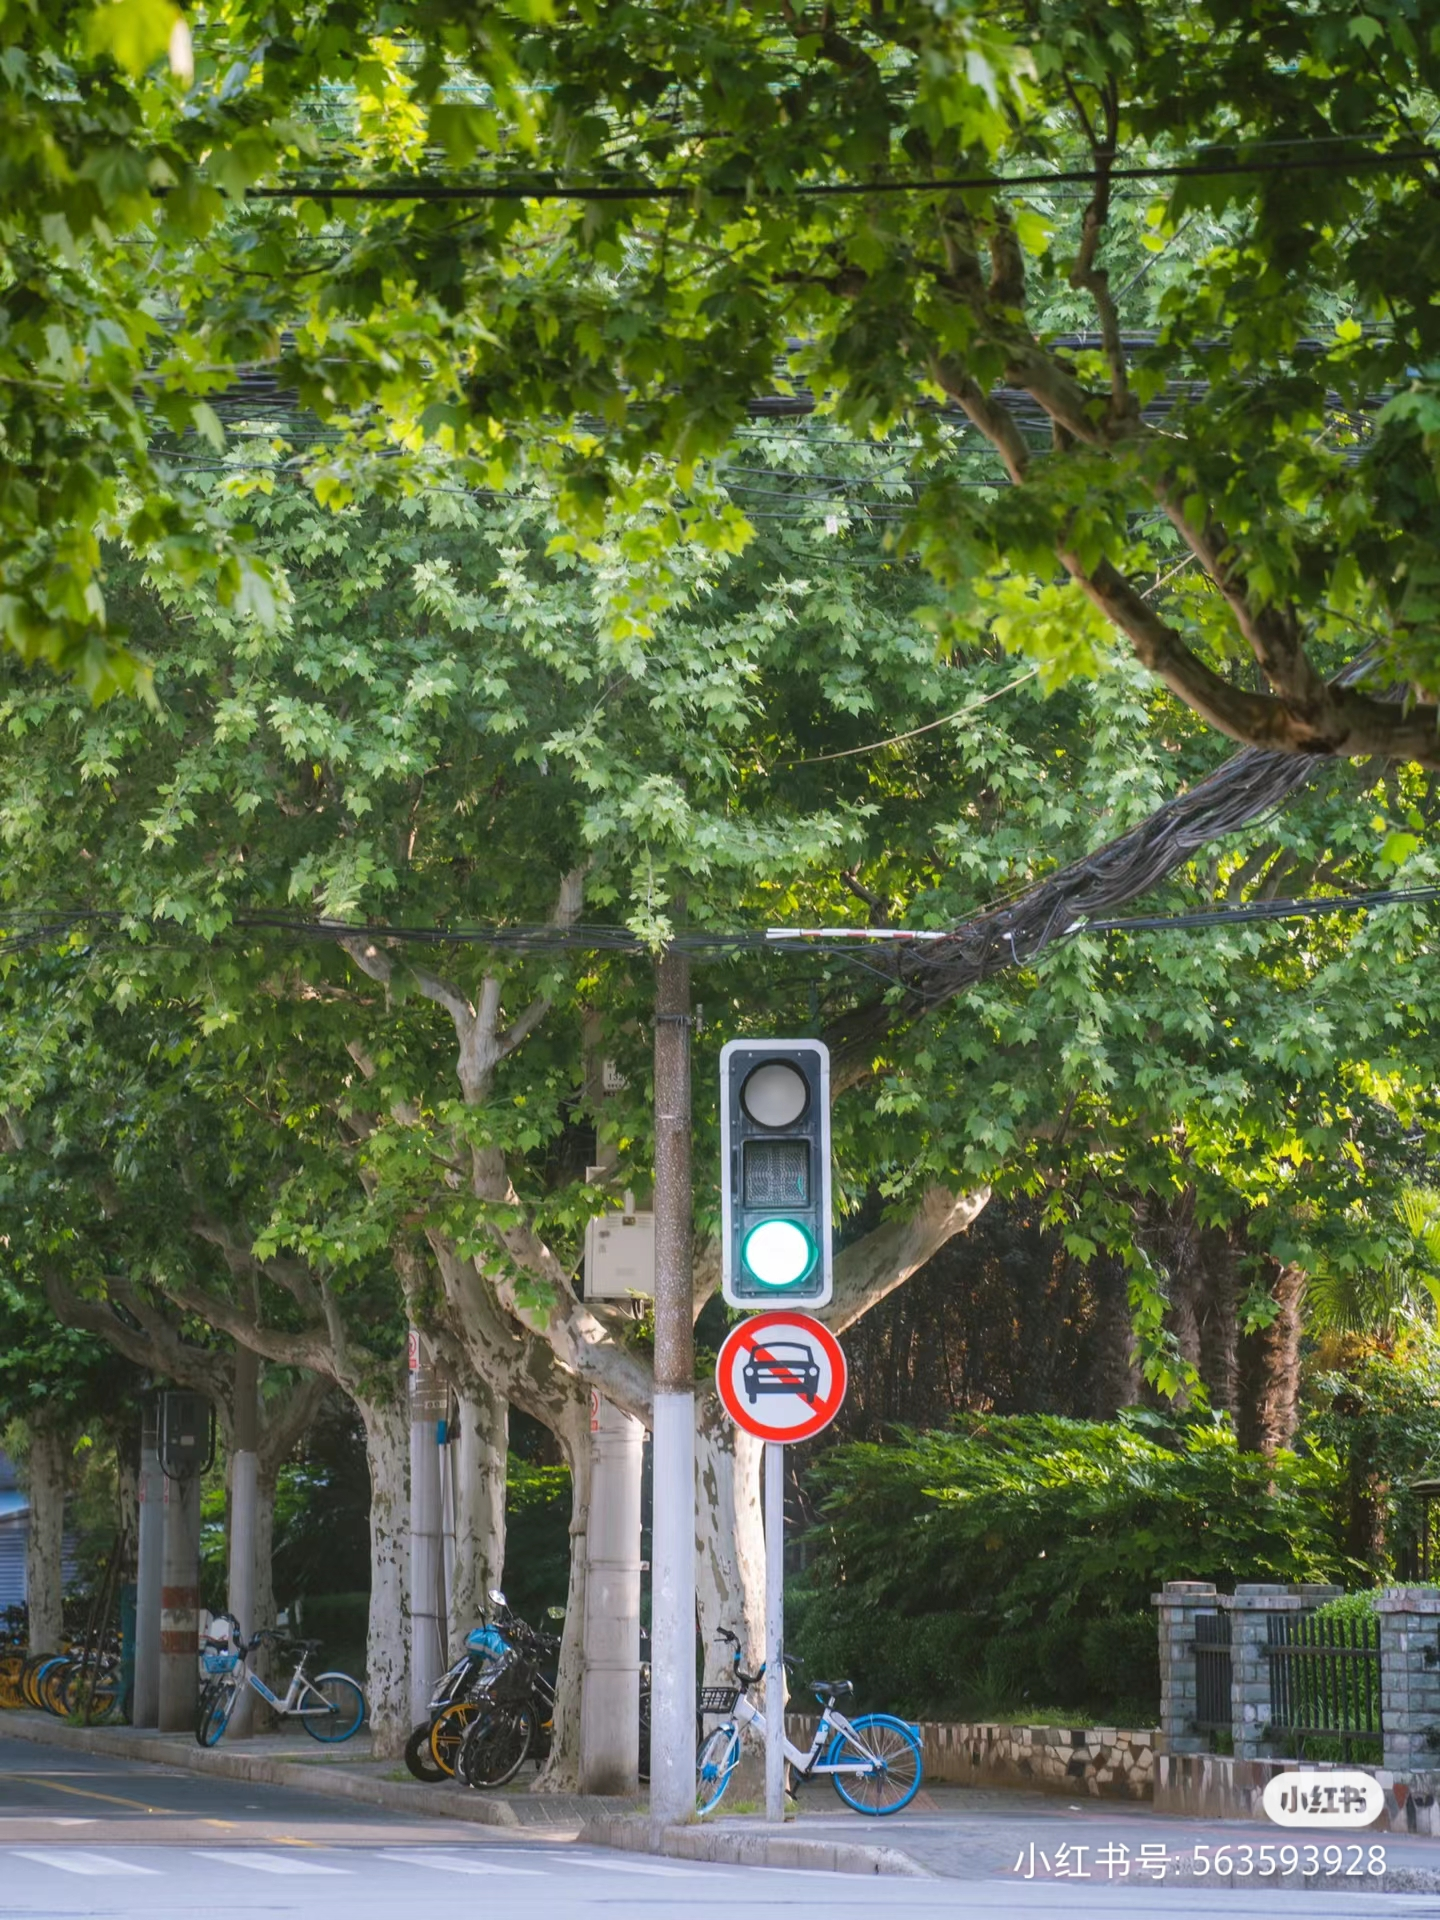p10: (720, 1317, 850, 1442)
